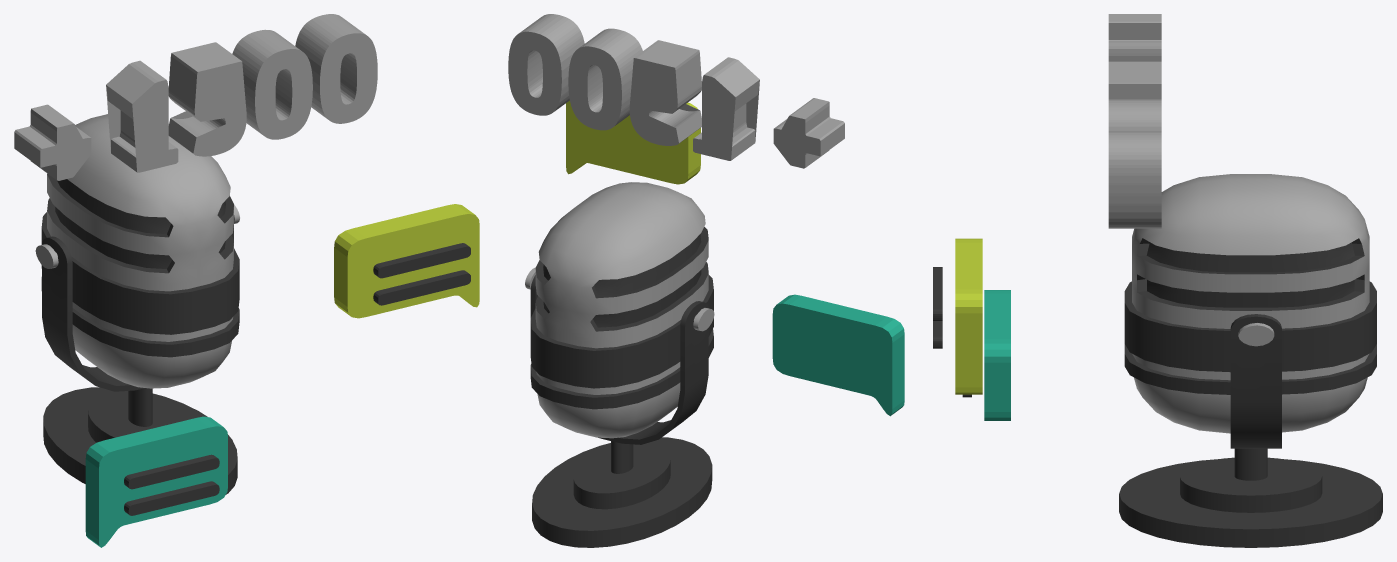
Rendered from 3D Ilustration.fbx.
3 renders of one model, left to right at view 1: azimuth 30°, elevation 25°; view 2: azimuth 150°, elevation 25°; view 3: azimuth 270°, elevation 25°, orthographic. The views are drawn at different scales.
Parts seen in each view (by area): view 1: Layer_001.001; view 2: Layer_001.001; view 3: Layer_001.001.
Boxes of the visible parts, x1,y1,x2,y2 form: Layer_001.001: [14, 14, 479, 547]; Layer_001.001: [508, 14, 904, 547]; Layer_001.001: [933, 14, 1382, 547].
Size of the model in its own units: 199 by 228 by 209.
Materials: 1 (1 with a texture image).
